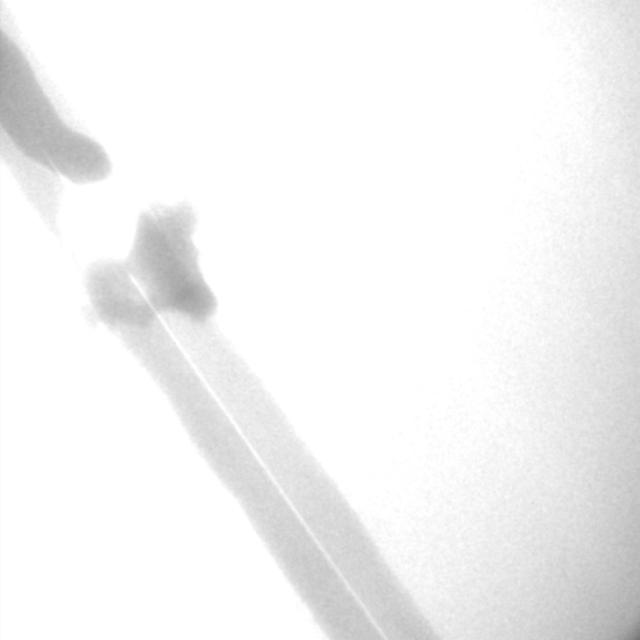broken arc: (55, 166, 383, 636)
